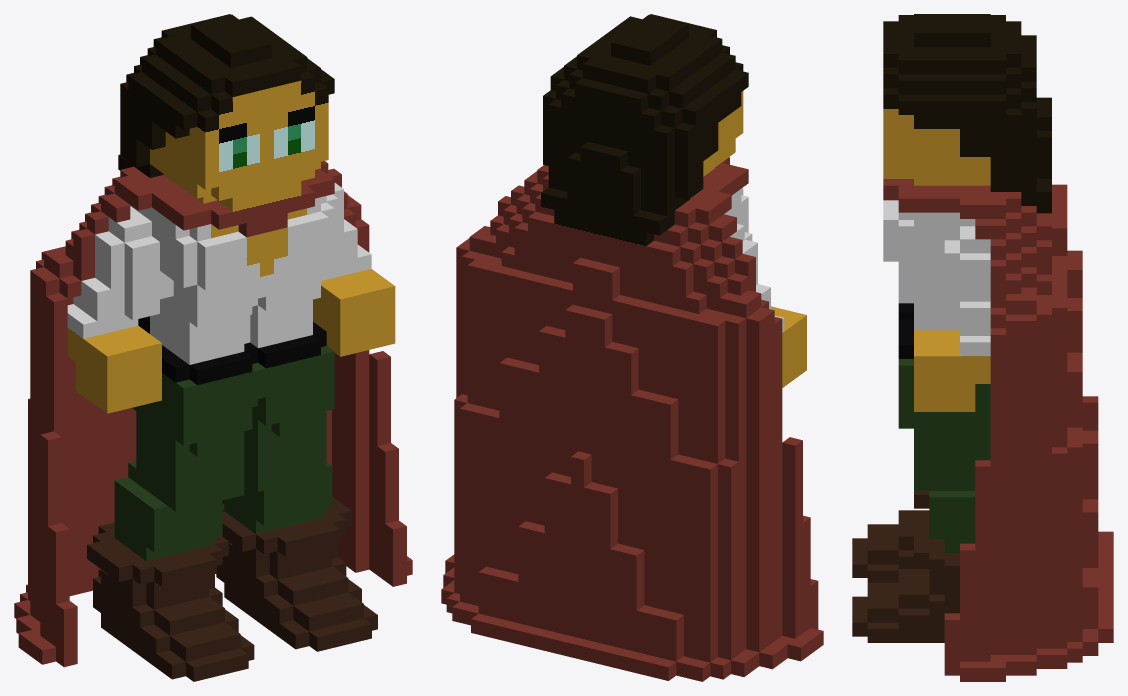
File: Jeremiah.fbx
3 renders of one model, left to right at view 1: azimuth 30°, elevation 25°; view 2: azimuth 150°, elevation 25°; view 3: azimuth 270°, elevation 25°, orthographic. The views are drawn at different scales.
Visible parts, largest first — view 1: Jeremiah.Merged; view 2: Jeremiah.Merged; view 3: Jeremiah.Merged.
Part boxes in pixels (x1,y1,x2,y2): Jeremiah.Merged: (14, 14, 412, 681); Jeremiah.Merged: (441, 14, 823, 681); Jeremiah.Merged: (852, 14, 1113, 681).
Size of the model in its own units: 270 by 410 by 170.
1 material, 1 textured.
